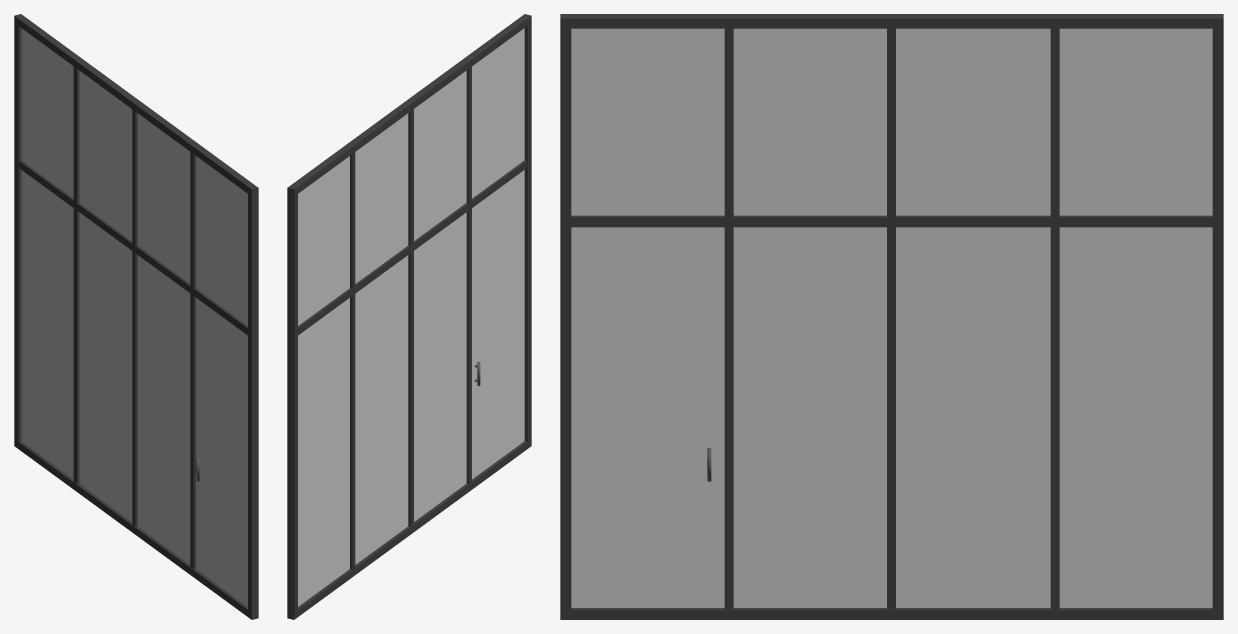
Rendered from Seperator05.fbx.
3 views of the same model, side by side, from view 1: azimuth 30°, elevation 25°; view 2: azimuth 150°, elevation 25°; view 3: azimuth 270°, elevation 25° (orthographic). The views are drawn at different scales.
Visible parts, largest first — view 1: Seperator05, Seperator_Wall; view 2: Seperator05, Seperator_Wall; view 3: Seperator05, Seperator_Wall.
Part boxes in pixels (left/top/right/bottom): Seperator05: left=14, top=14, right=258, bottom=619; Seperator_Wall: left=196, top=298, right=247, bottom=606; Seperator05: left=287, top=14, right=531, bottom=619; Seperator_Wall: left=472, top=170, right=524, bottom=479; Seperator05: left=560, top=14, right=1223, bottom=619; Seperator_Wall: left=571, top=227, right=724, bottom=607.
Bounding box in the file's own units: 0.0758 × 3 × 3.
